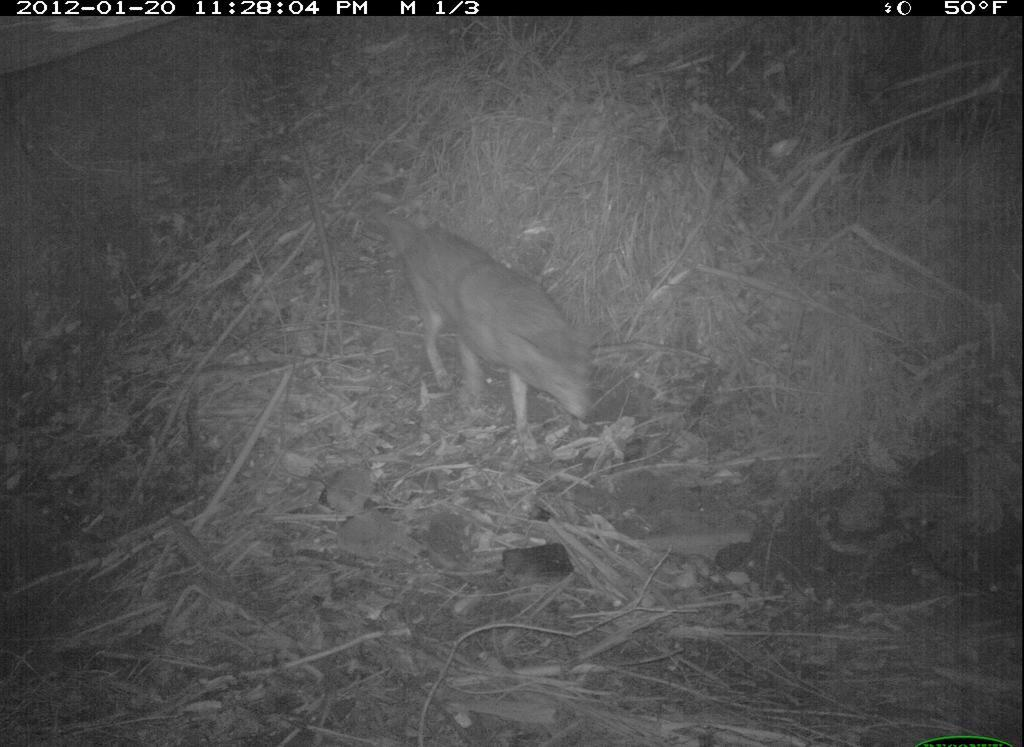coyote: (374, 190, 606, 457)
